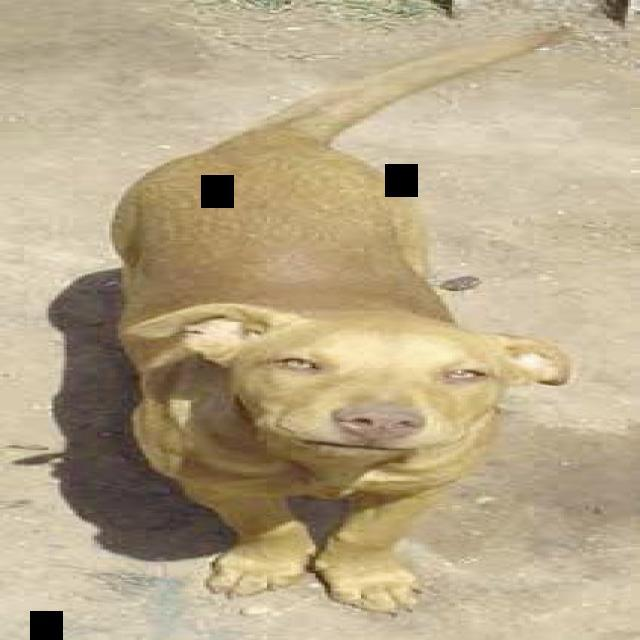adult_dog: (111, 28, 574, 614)
